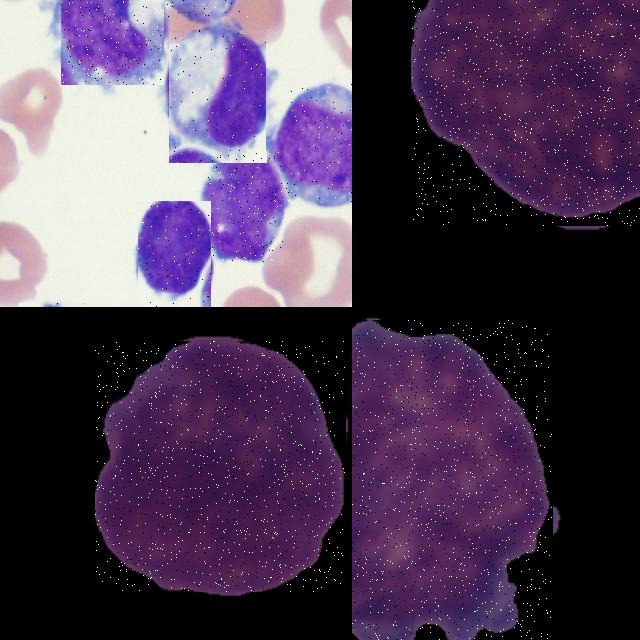ALL Negative Cells: (352, 320, 552, 640), (96, 341, 345, 592)
ALL Positive Cell: (412, 0, 640, 226), (170, 30, 268, 163), (61, 0, 163, 85), (281, 82, 352, 202), (208, 151, 283, 263), (138, 200, 211, 307)
